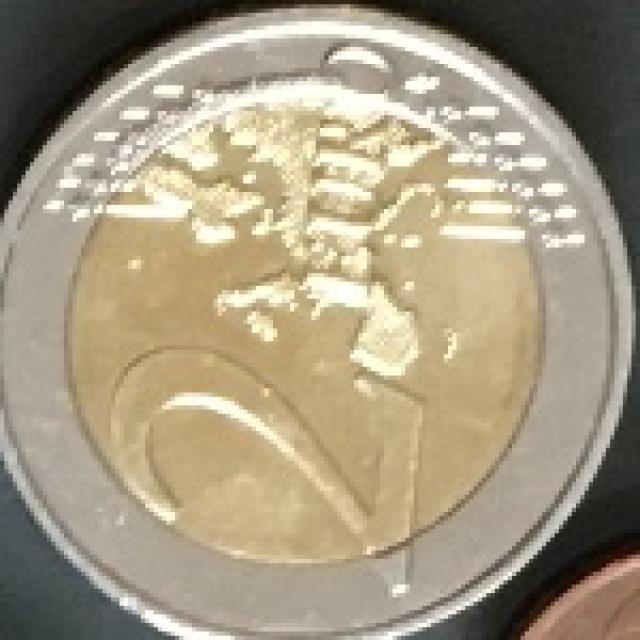2e: (8, 4, 623, 640)
